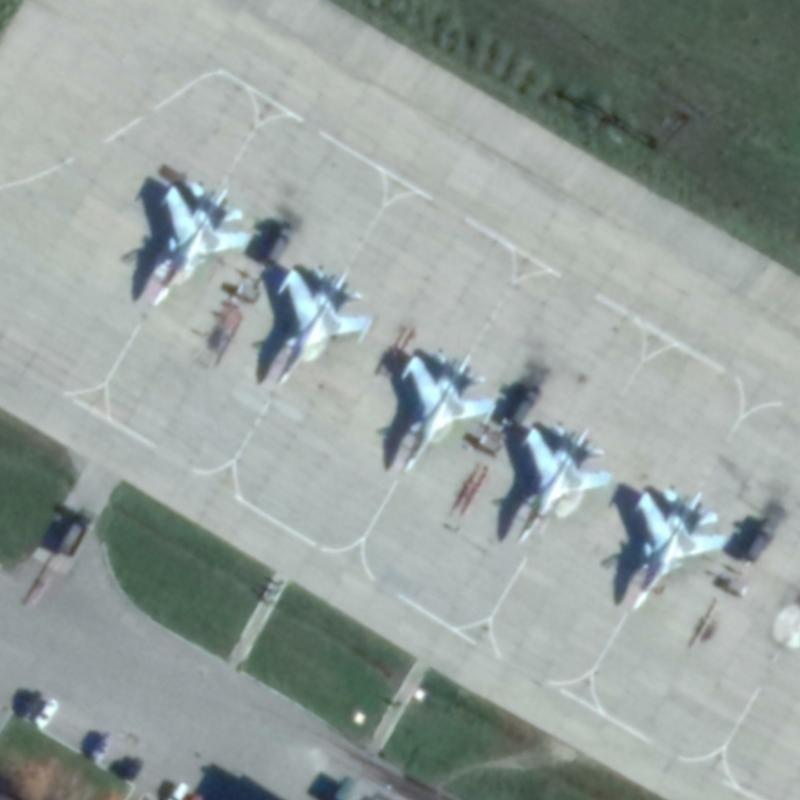A1: (272, 263, 372, 387), (397, 349, 497, 473), (514, 422, 612, 544)
A19: (149, 180, 254, 308), (629, 486, 729, 612)
